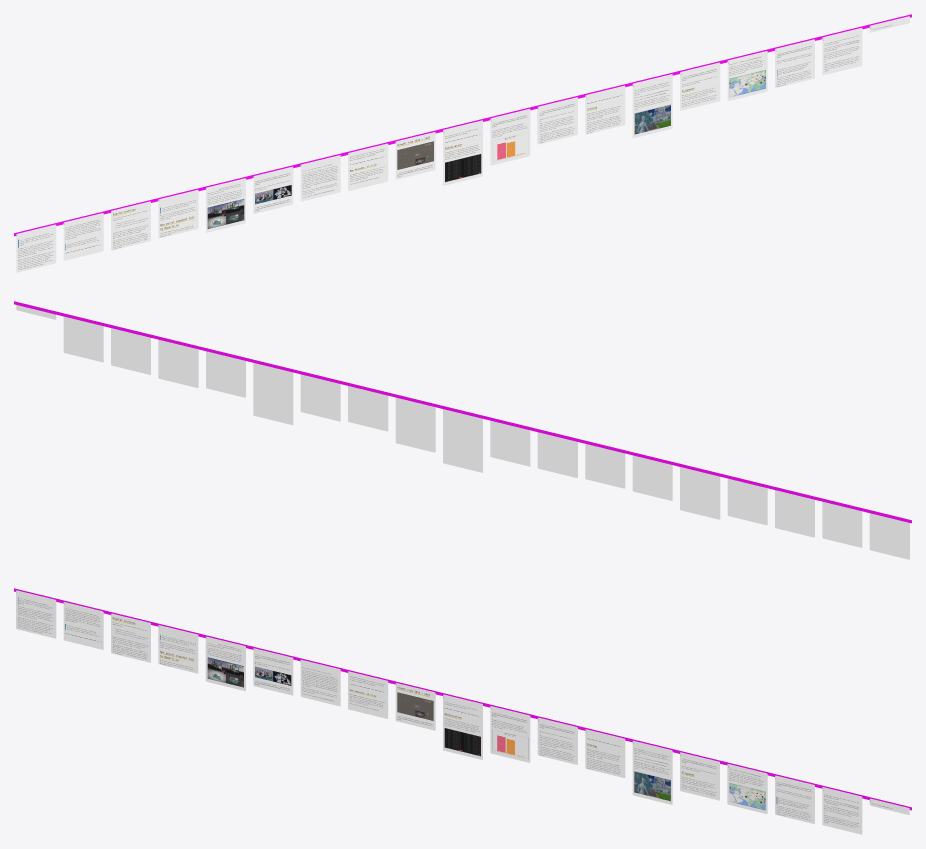
The model's file is content.glb.
The picture shows the model from 3 angles, top to bottom: view 1: azimuth 30°, elevation 25°; view 2: azimuth 150°, elevation 25°; view 3: azimuth 330°, elevation 25°; orthographic projection.
Visible parts, largest first — view 1: polygonBold41.83836396177669_merged, plane (×6); view 2: polygonBold41.83836396177669_merged; view 3: polygonBold41.83836396177669_merged, plane (×6).
Part boxes in pixels (x1,y1,x2,y2): polygonBold41.83836396177669_merged: [14, 14, 911, 272]; plane (×6): [207, 70, 765, 228]; polygonBold41.83836396177669_merged: [14, 301, 911, 559]; polygonBold41.83836396177669_merged: [14, 588, 911, 834]; plane (×6): [207, 657, 765, 810].
Size of the model in its own units: 1.66 by 0.1016 by 0.000281.
2 materials, 2 textured.
